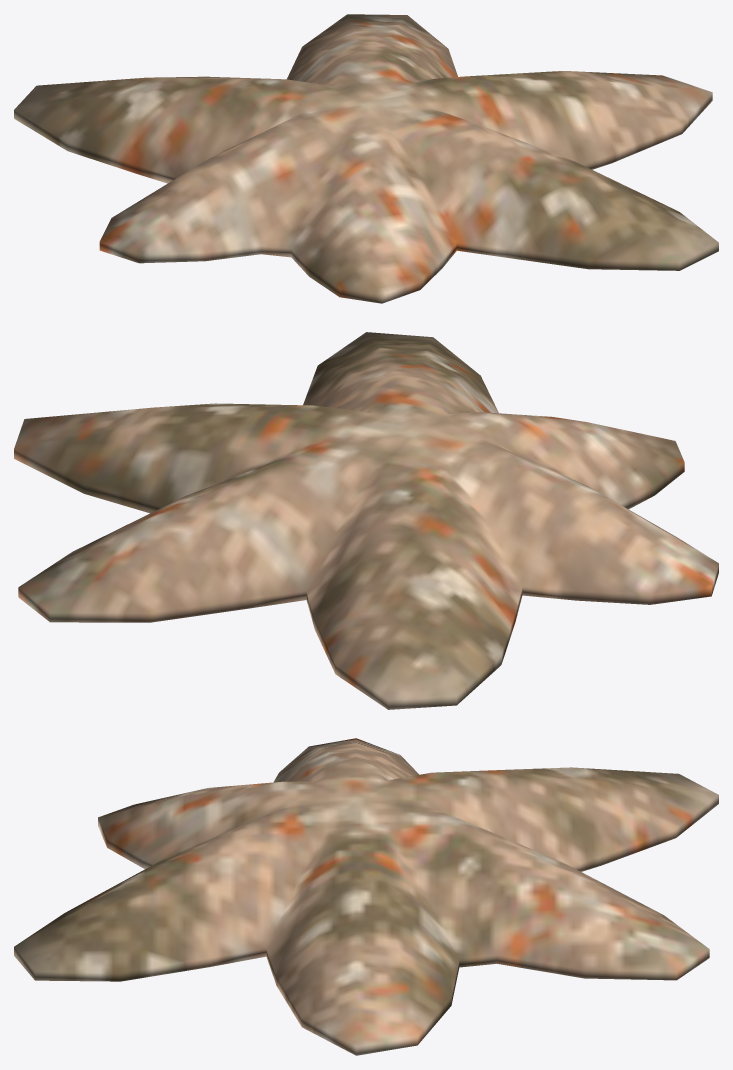
Rendered from asterina.glb.
3 renders of one model, top to bottom at view 1: azimuth 30°, elevation 25°; view 2: azimuth 150°, elevation 25°; view 3: azimuth 270°, elevation 25°, orthographic. The views are drawn at different scales.
Visible parts, largest first — view 1: Body; view 2: Body; view 3: Body.
Boxes of the visible parts, x1,y1,x2,y2 form: Body: (14,14,718,303); Body: (14,332,718,709); Body: (14,738,718,1055).
Bounding box in the file's own units: 0.8879 × 0.111 × 0.8572.
Materials: 1 (1 with a texture image).
